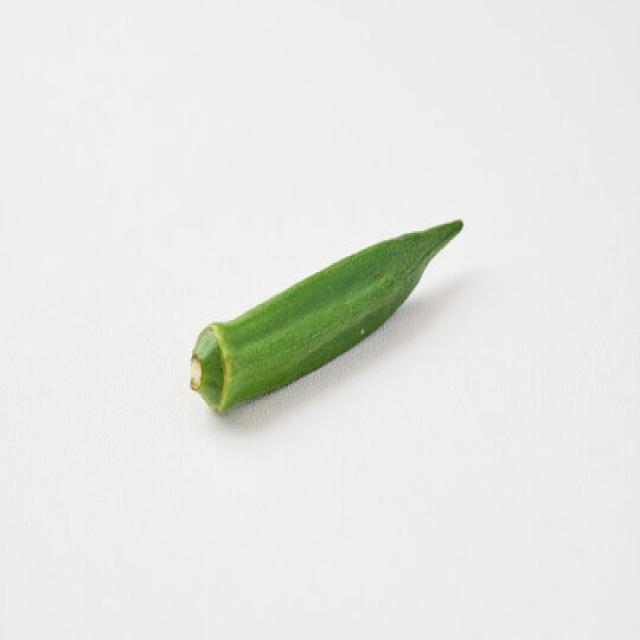Okra: (188, 217, 464, 414)
